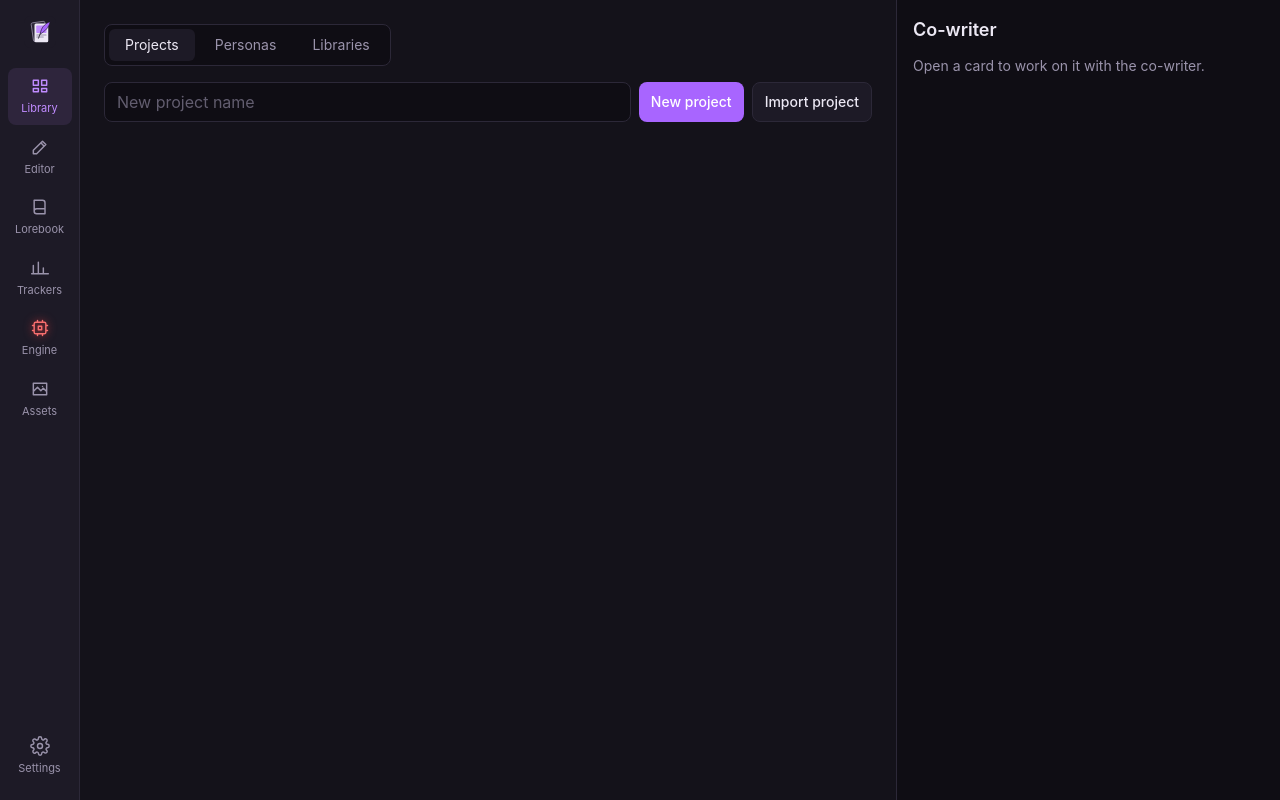
App › survives scrollTo returning a promise, as in newer WebView2
Click the button "Editor". click: (40, 157)
box: [8,128,72,185]
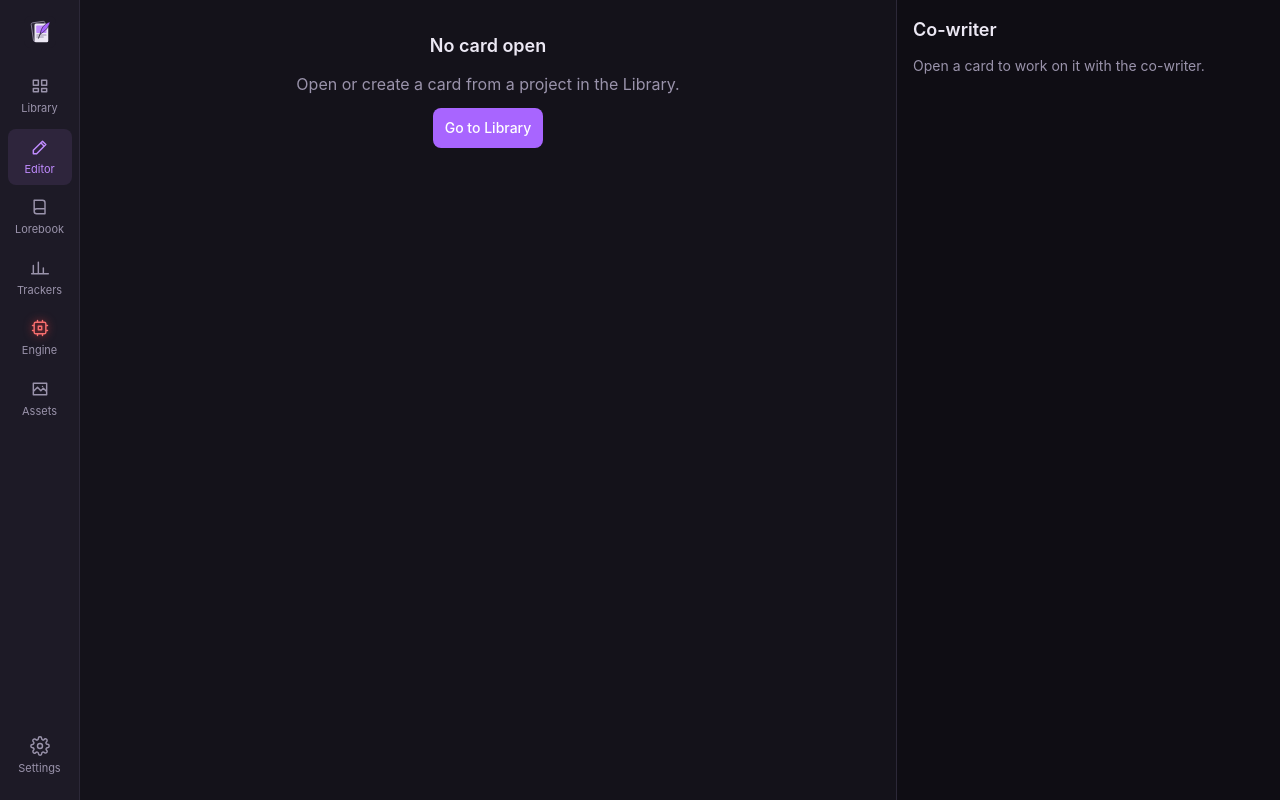
expect the heading "No card open" is shown: met, box [430,32,546,60]
